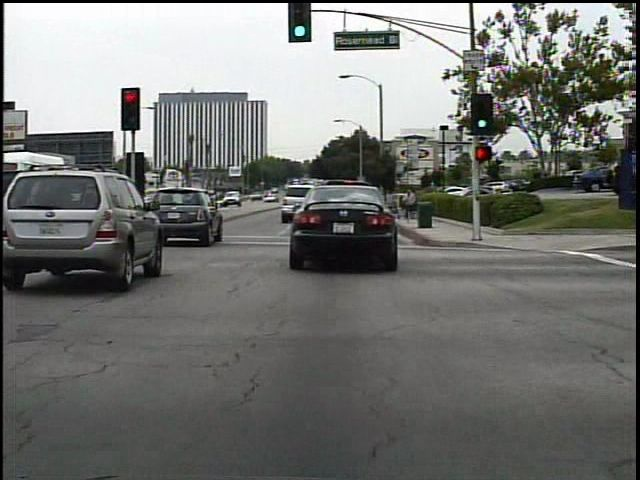person: (400, 186, 417, 225)
